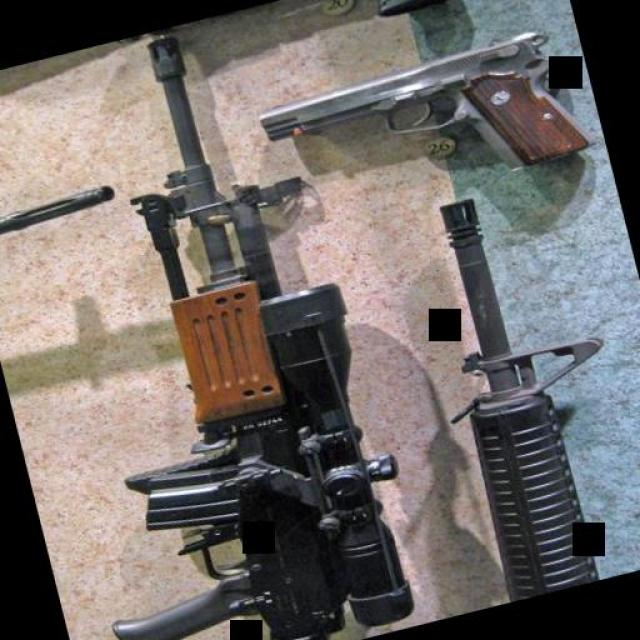gun: (239, 14, 599, 232)
